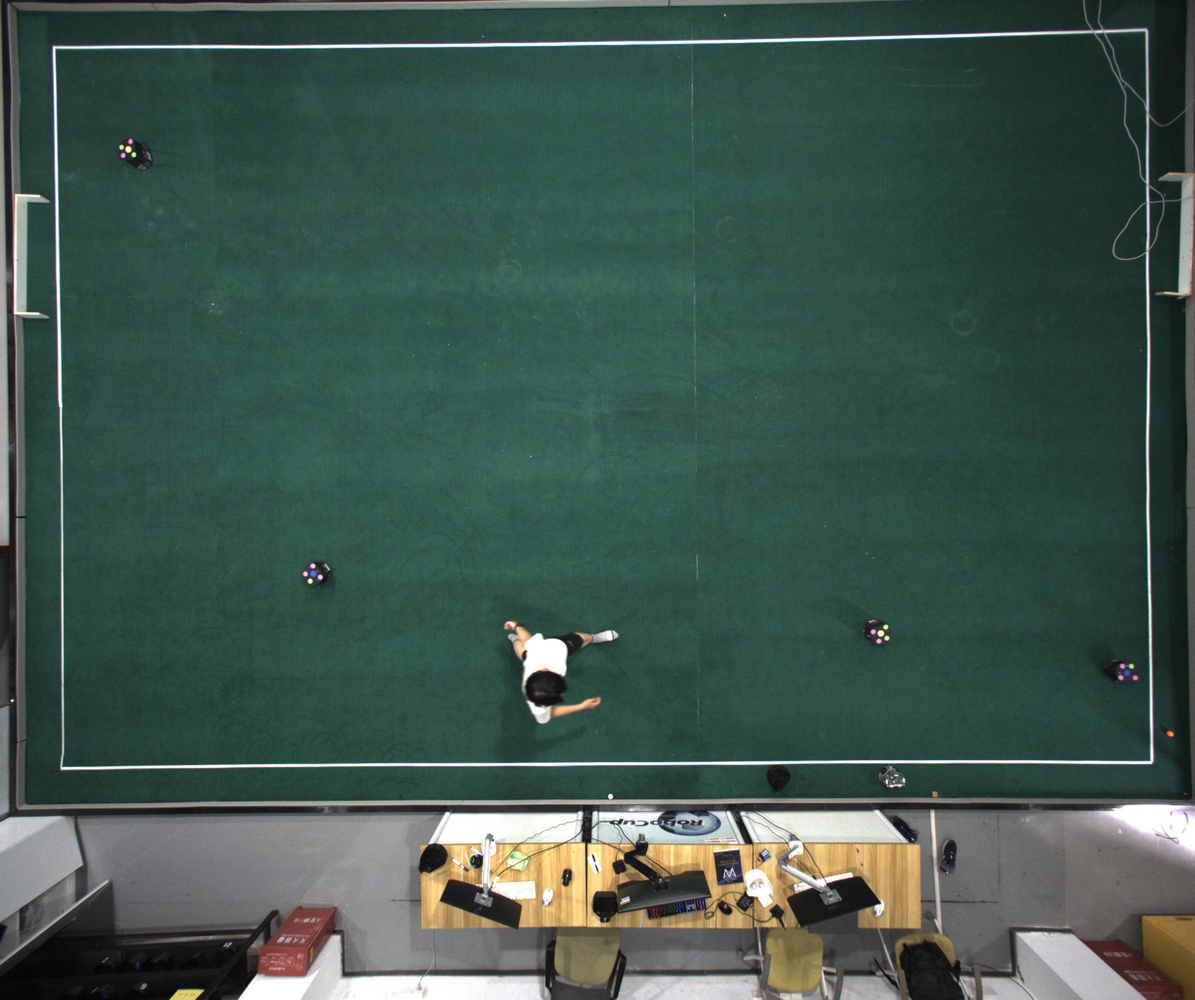ball: (1166, 731, 1174, 737)
blue_bot: (303, 563, 324, 586), (1115, 662, 1139, 682)
yellow_bot: (870, 623, 892, 645), (119, 138, 138, 160)
